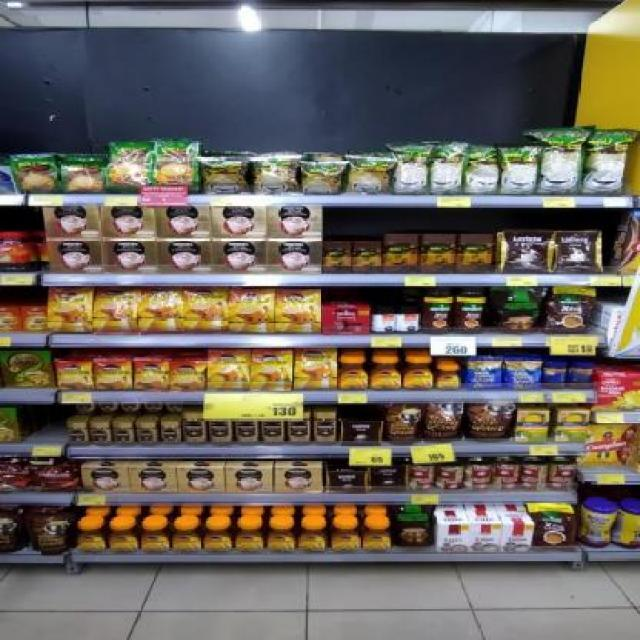Coffee: (48, 287, 94, 333), (183, 288, 229, 334), (140, 287, 184, 333), (229, 288, 273, 334), (275, 289, 321, 333), (94, 288, 138, 332), (295, 348, 337, 389), (209, 351, 250, 390), (252, 351, 292, 390), (95, 359, 133, 390), (133, 360, 170, 390), (56, 361, 93, 391), (170, 361, 206, 390), (404, 356, 434, 390), (371, 358, 402, 390), (340, 358, 369, 390), (234, 525, 264, 553), (77, 525, 107, 553), (331, 525, 361, 553), (109, 526, 140, 553), (172, 525, 201, 553), (141, 526, 171, 553), (361, 524, 391, 551), (297, 526, 327, 552), (210, 414, 234, 446), (314, 412, 337, 445), (267, 525, 295, 552), (183, 414, 207, 445), (236, 413, 259, 445), (263, 413, 286, 445), (203, 526, 231, 552), (288, 413, 310, 445), (435, 365, 459, 389), (160, 422, 182, 446), (136, 423, 158, 446), (91, 422, 112, 446), (113, 423, 134, 446), (68, 424, 89, 447)
